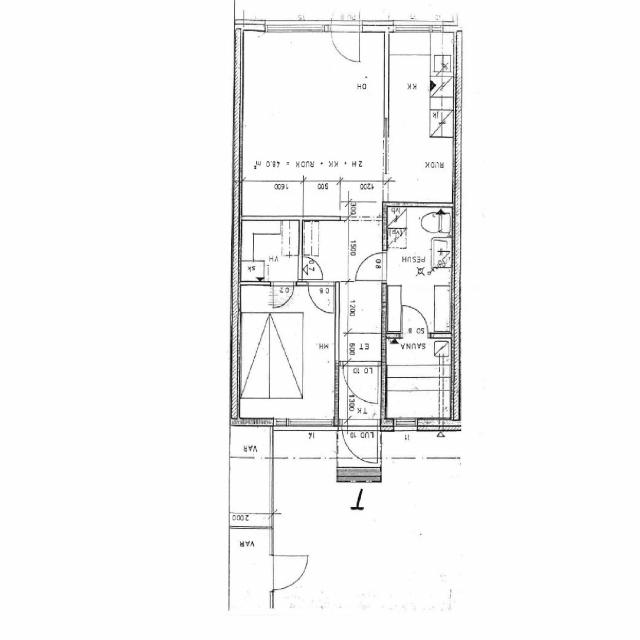door: (342, 418, 377, 469), (343, 361, 378, 403), (270, 554, 306, 589), (332, 21, 359, 62), (355, 252, 387, 281), (332, 0, 359, 32), (402, 304, 428, 337), (307, 281, 333, 313), (298, 256, 324, 279), (272, 281, 294, 308)
